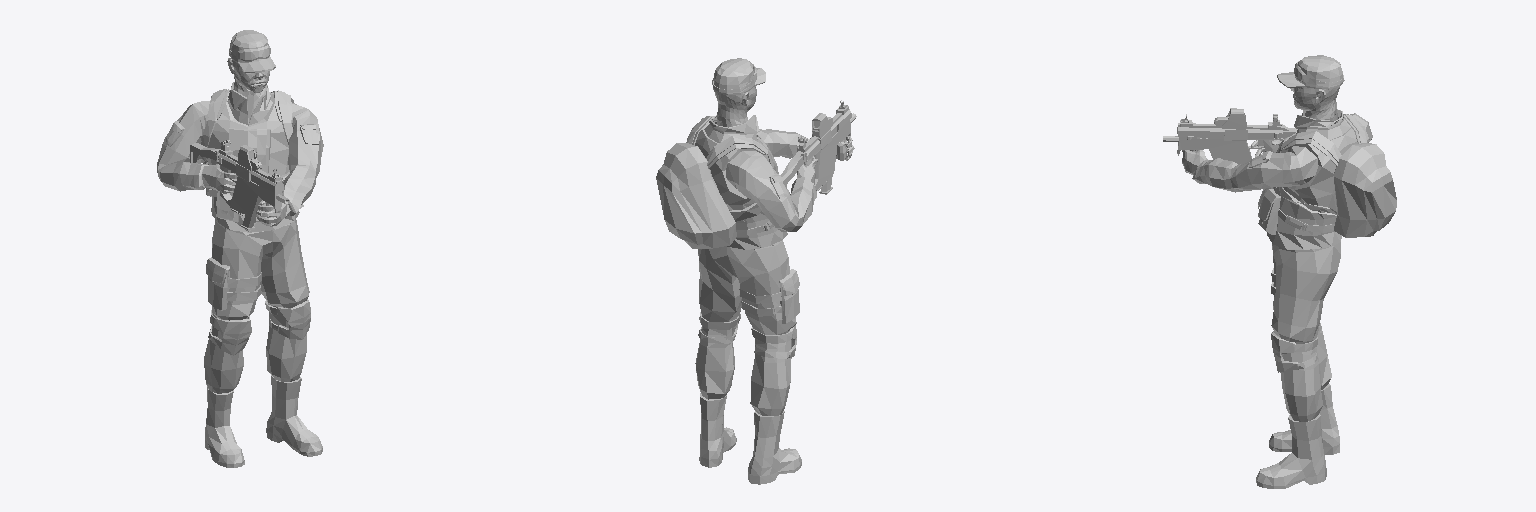
3 views of the same model, side by side, from view 1: azimuth 30°, elevation 25°; view 2: azimuth 150°, elevation 25°; view 3: azimuth 270°, elevation 25° (orthographic).
Visible parts, largest first — view 1: soldiers_driver_2, SMG Group001; view 2: soldiers_driver_2, SMG Group001; view 3: soldiers_driver_2, SMG Group001.
Boxes of the visible parts, box(x1,y1,x2,y2) form: soldiers_driver_2: box(157, 30, 323, 467); SMG Group001: box(190, 140, 289, 217); soldiers_driver_2: box(656, 58, 854, 484); SMG Group001: box(781, 100, 856, 190); soldiers_driver_2: box(1182, 55, 1396, 488); SMG Group001: box(1163, 108, 1297, 163).
Bounding box in the file's own units: 168 × 495 × 259.